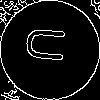U: (25, 25, 75, 65)
